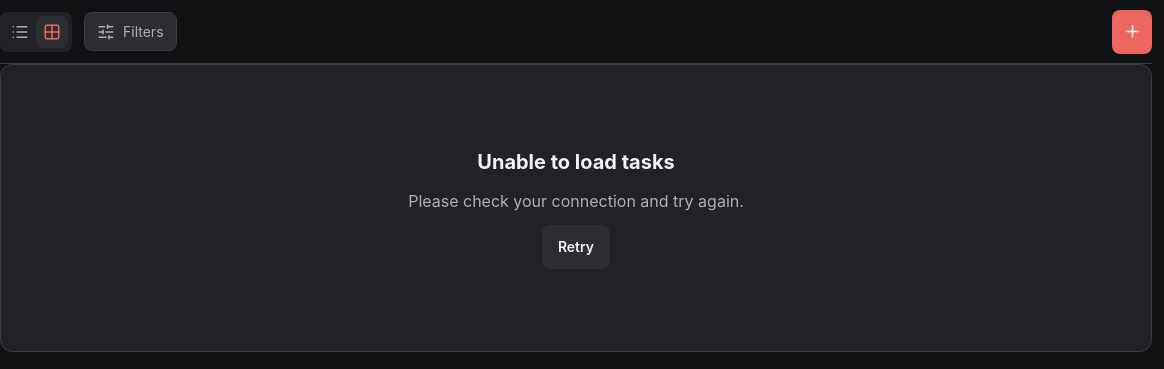
Test: DashboardPage › retries after a task query error
This screenshot has width=1164, height=369.
Expected: the message shows "Unable to load tasks", [477,150,675,174]
What coordinates should you click on to do the following:
click the button "Retry"
I would click on:
 (576, 247)
Its box is [542,225,610,269].
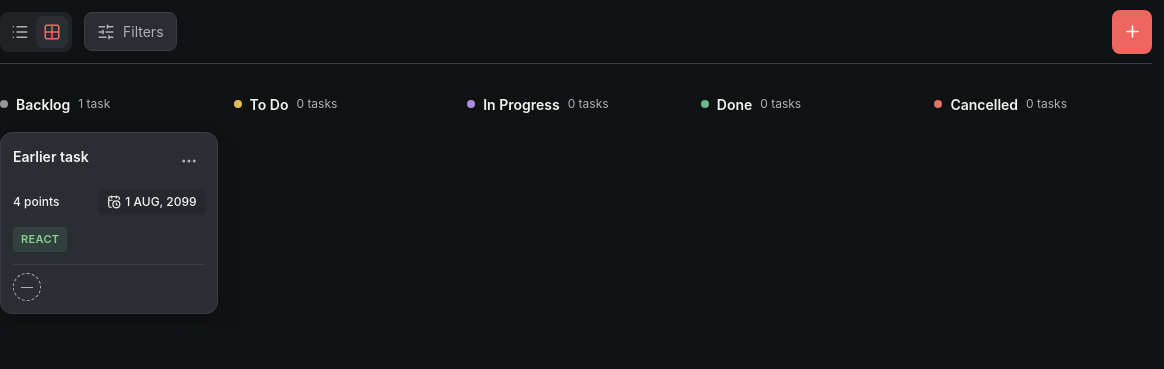
Result: the element named "Backlog, 1 task" is shown at [0,88,218,314]
